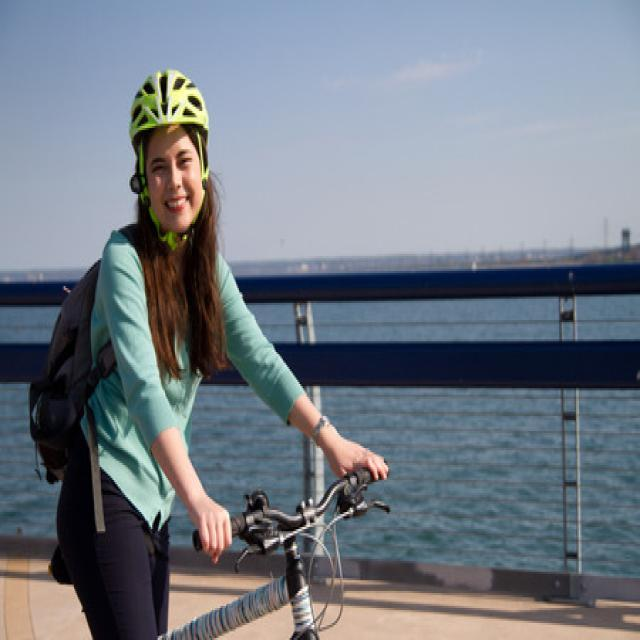Helmet: (123, 68, 215, 237)
